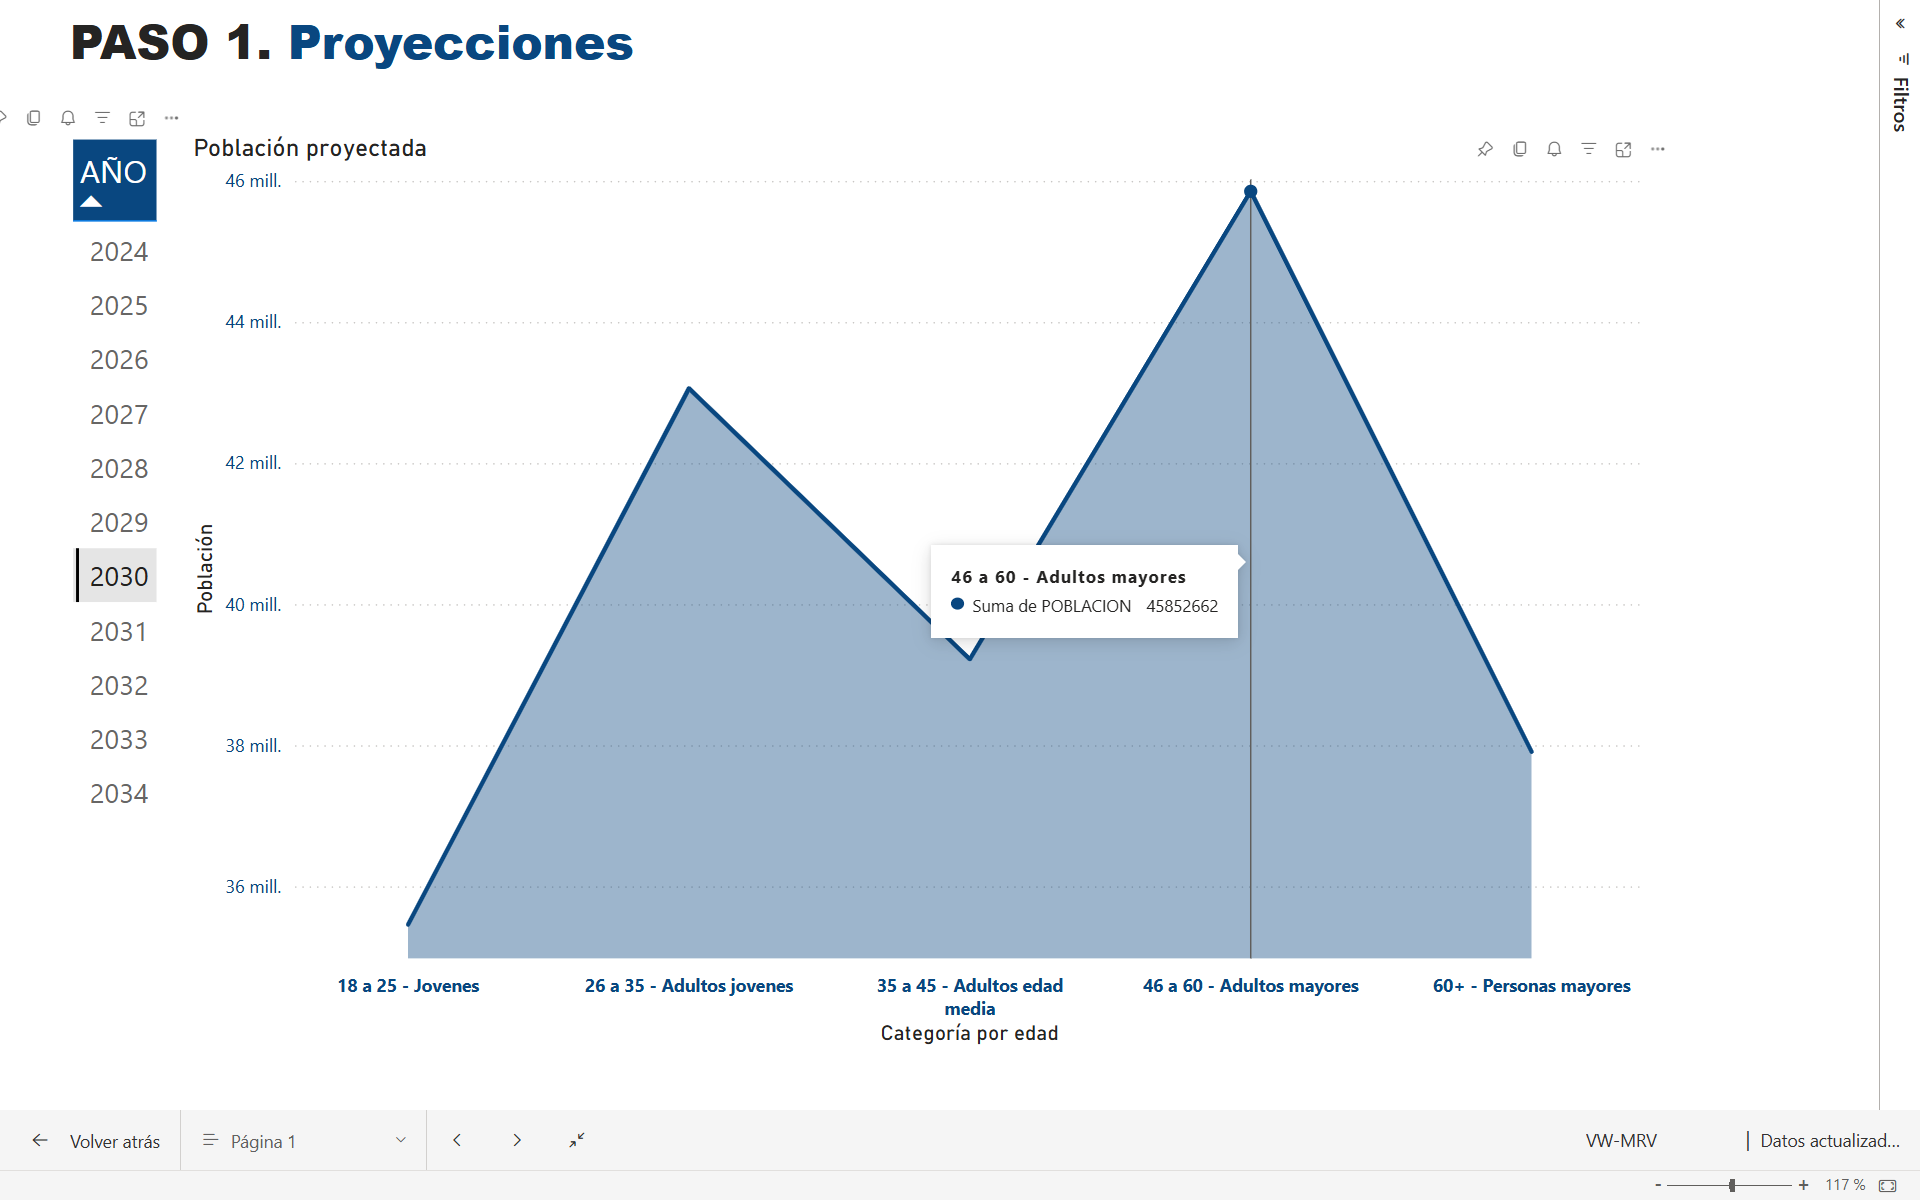

What the dashboard file says about the page in this screenshot:
{"tool":"powerbi","page":{"name":"Página 1","canvas":[1280,720],"ordinal":1},"visuals":[{"type":"stackedAreaChart","title":"Población proyectada","fields":{"Category":["POBLACION.CATEGORIA"],"Y":["Sum(POBLACION.POBLACION)"]},"box":[126.7,90.7,1013.3,626.7],"z":0},{"type":"tableEx","fields":{"Values":["POBLACION.AÑO"]},"box":[43.3,90.4,84,485.1],"z":1000},{"type":"textbox","box":[42.7,0,766.7,70.7],"z":1001}]}

Visuals, with their boxes on the page's 1280x720 design canvas (x1, y1, x2, y2). These are canvas units, not pixel positions in the 1920x1200 screenshot, which may show the page scaled, cropped or inside an application window:
"Población proyectada" stackedAreaChart: bbox(127, 91, 1140, 717)
tableEx - POBLACION.AÑO: bbox(43, 90, 127, 576)
textbox: bbox(43, 0, 809, 71)
